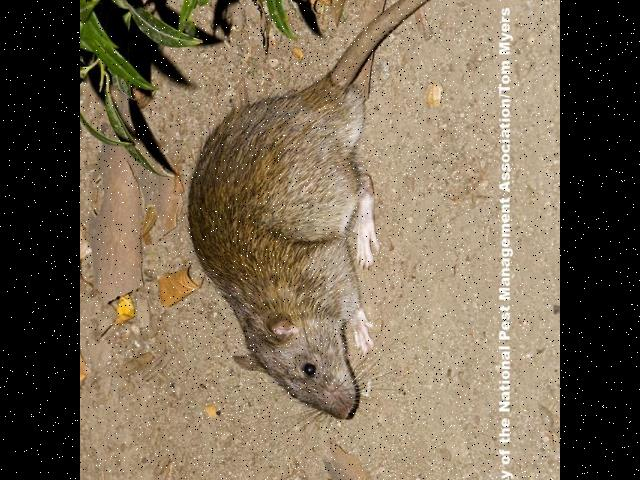Tikus: (186, 68, 378, 422)
